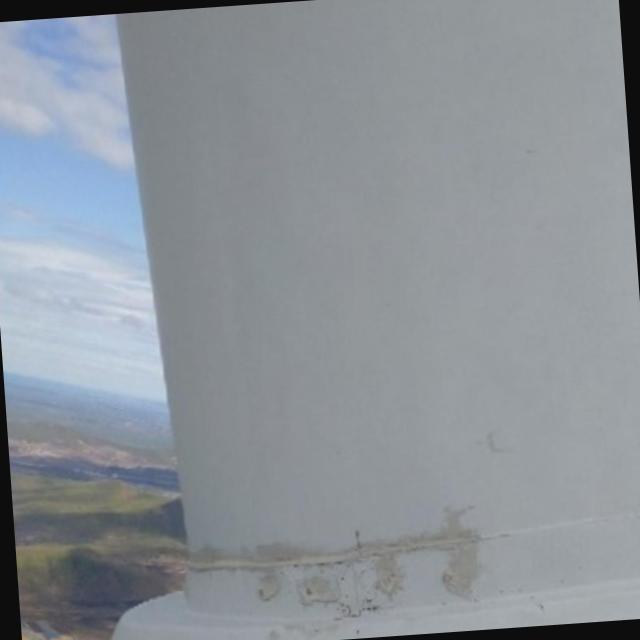surface_peeling: (180, 504, 494, 623)
